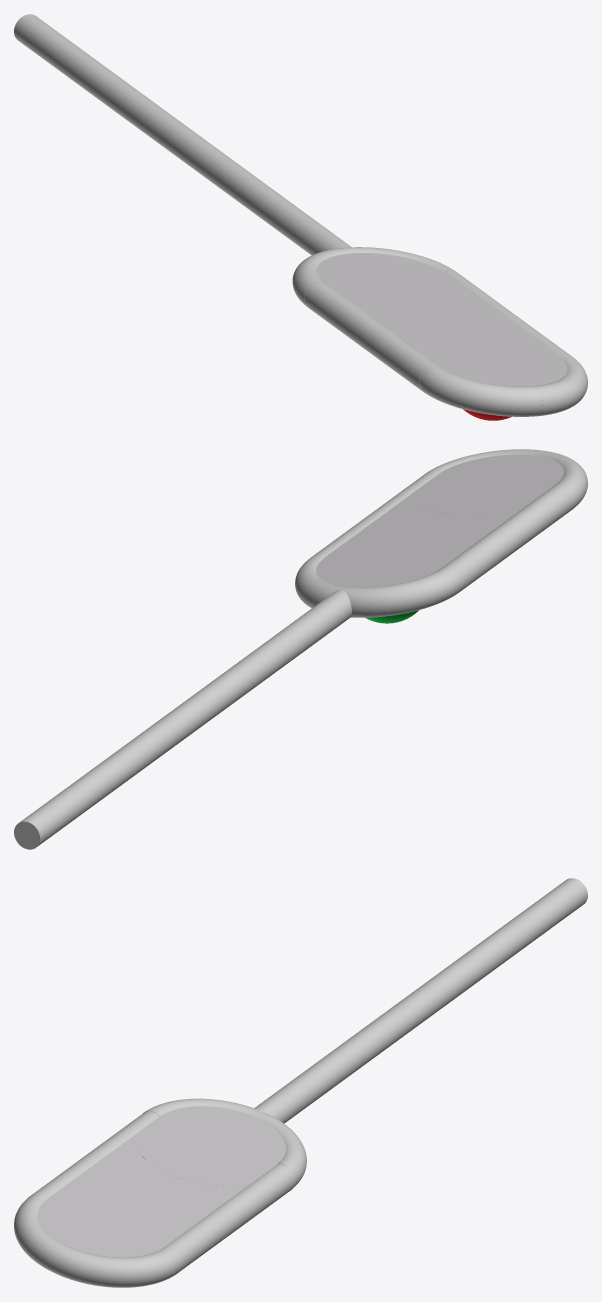
The model's file is Downloaded Object.obj.
The picture shows the model from 3 angles, top to bottom: view 1: azimuth 30°, elevation 25°; view 2: azimuth 150°, elevation 25°; view 3: azimuth 330°, elevation 25°; orthographic projection.
Parts seen in each view (by area): view 1: Object.2, Object.11, Object.12, Object.4, Object.6, Object.13, Object.5, Object.3, Object.1, Object.10; view 2: Object.2, Object.11, Object.12, Object.4, Object.1, Object.13, Object.10, Object.3, Object.6, Object.5; view 3: Object.2, Object.11, Object.12, Object.13, Object.3, Object.5, Object.6, Object.4, Object.10, Object.1.
Part boxes in pixels (x1,y1,x2,y2): Object.2: [14, 14, 351, 255]; Object.11: [317, 253, 472, 313]; Object.12: [413, 326, 567, 386]; Object.4: [304, 281, 438, 391]; Object.6: [419, 365, 542, 416]; Object.13: [353, 294, 530, 346]; Object.5: [535, 354, 587, 416]; Object.3: [444, 270, 569, 356]; Object.1: [292, 248, 350, 306]; Object.10: [345, 247, 455, 272]; Object.2: [14, 589, 351, 849]; Object.11: [316, 527, 468, 587]; Object.12: [411, 454, 563, 514]; Object.4: [443, 483, 576, 591]; Object.1: [344, 566, 462, 617]; Object.13: [353, 494, 528, 547]; Object.10: [295, 555, 347, 608]; Object.3: [312, 472, 437, 557]; Object.6: [530, 450, 587, 507]; Object.5: [426, 449, 535, 474]; Object.2: [254, 878, 587, 1123]; Object.11: [133, 1106, 285, 1185]; Object.12: [38, 1178, 190, 1257]; Object.13: [73, 1136, 249, 1227]; Object.3: [164, 1164, 295, 1271]; Object.5: [59, 1247, 181, 1287]; Object.6: [14, 1195, 71, 1275]; Object.4: [28, 1111, 159, 1199]; Object.10: [252, 1110, 306, 1186]; Object.1: [142, 1098, 257, 1116].
Bounding box in the file's own units: 83.26 × 35.48 × 474.
Materials: 12 (5 with a texture image).
